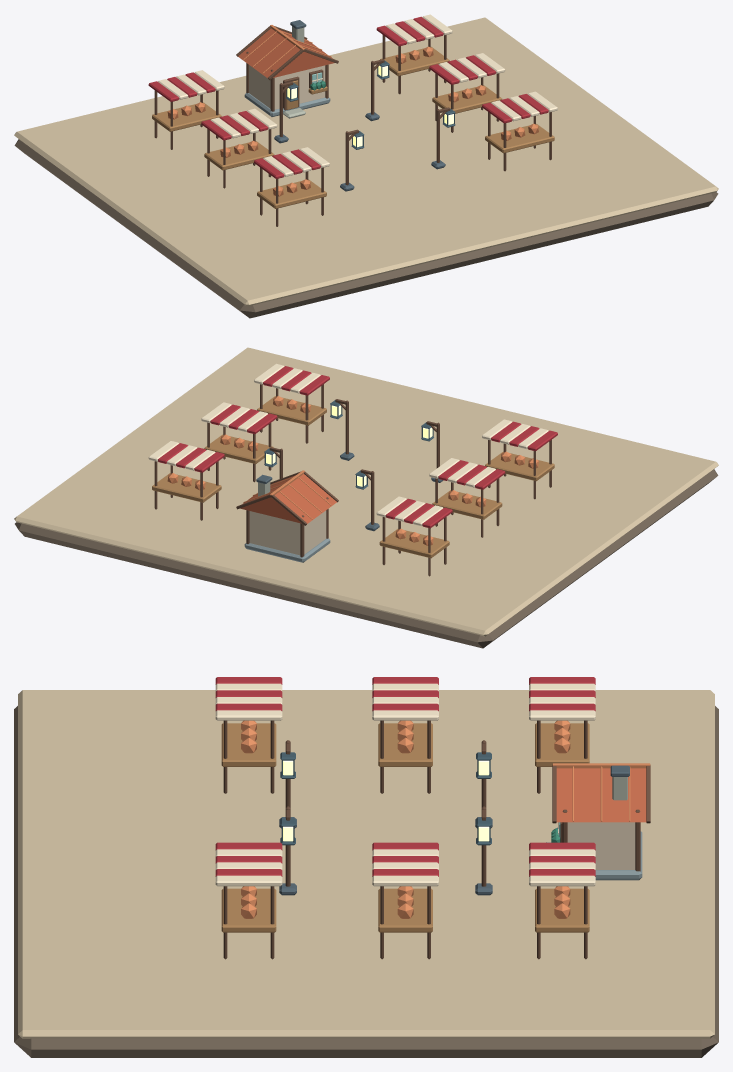
File: world-market.glb
The picture shows the model from 3 angles, top to bottom: view 1: azimuth 30°, elevation 25°; view 2: azimuth 150°, elevation 25°; view 3: azimuth 270°, elevation 25°; orthographic projection. The views are drawn at different scales.
Visible parts, largest first — view 1: terrain-top, terrain-stratum, cottage-roof.001, plaster-walls.001, counter.001, counter.004, counter.002, counter.003, counter.005, counter.006, foundation.001; view 2: terrain-top, terrain-stratum, plaster-walls.001, cottage-roof.001, counter.003, counter.006, counter.002, counter.004, counter.001, counter.005, foundation.001; view 3: terrain-top, terrain-stratum, cottage-roof.001, plaster-walls.001, counter.004, counter.005, counter.006, counter.001, counter.002, counter.003, awning.029, awning.035 (+5 smaller).
Boxes of the visible parts, box(x1,y1,x2,y2) form: terrain-top: box(14, 17, 718, 306); terrain-stratum: box(14, 139, 718, 318); cottage-roof.001: box(238, 28, 334, 78); plaster-walls.001: box(249, 65, 325, 109); counter.001: box(257, 179, 326, 208); counter.004: box(485, 123, 554, 153); counter.002: box(204, 141, 274, 170); counter.003: box(152, 102, 221, 131); counter.005: box(432, 85, 502, 113); counter.006: box(380, 46, 449, 76); foundation.001: box(244, 92, 330, 116); terrain-top: box(14, 347, 718, 636); terrain-stratum: box(15, 469, 718, 648); plaster-walls.001: box(249, 510, 326, 555); cottage-roof.001: box(240, 474, 336, 523); counter.003: box(379, 529, 449, 558); counter.006: box(152, 473, 221, 502); counter.002: box(432, 490, 502, 519); counter.004: box(257, 396, 326, 425); counter.001: box(485, 451, 554, 481); counter.005: box(204, 434, 273, 463); foundation.001: box(244, 538, 330, 562); terrain-top: box(18, 690, 714, 1038); terrain-stratum: box(14, 706, 718, 1057); cottage-roof.001: box(556, 768, 646, 822); plaster-walls.001: box(567, 822, 635, 869); counter.004: box(221, 888, 276, 932); counter.005: box(378, 888, 432, 932); counter.006: box(535, 888, 589, 932); counter.001: box(221, 723, 276, 766); counter.002: box(378, 723, 432, 766); counter.003: box(535, 723, 589, 766); awning.029: box(215, 875, 282, 886); awning.035: box(372, 875, 438, 886).
Size of the model in its own units: 21 by 3.8 by 18.
